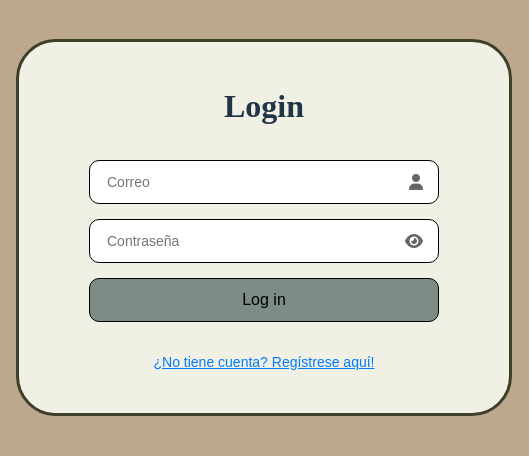
Login › muestra mensaje de error cuando las credenciales son inválidas
Type "wrong@correo.com" into the field with placeholder "Correo". click: (252, 182)
box: [105,172,399,190]
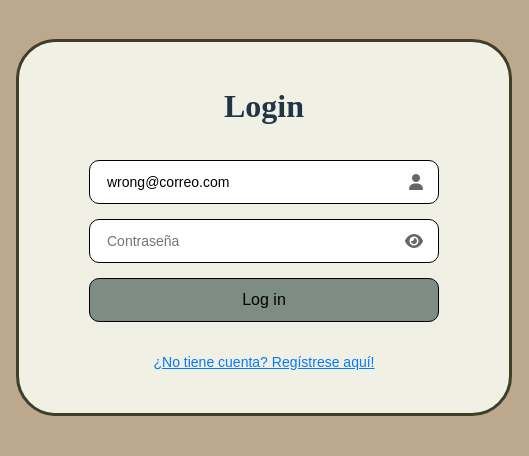
Type "wrongpass" into the password field with placeholder "Contraseña". click: (250, 240)
box: [105,232,395,250]
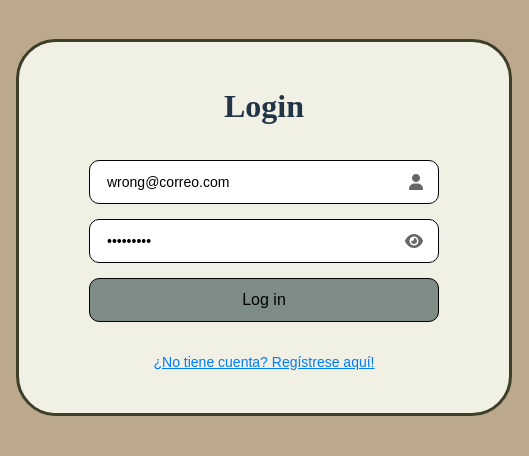
Click the button "Log in". click: (264, 300)
box: [89,278,439,322]
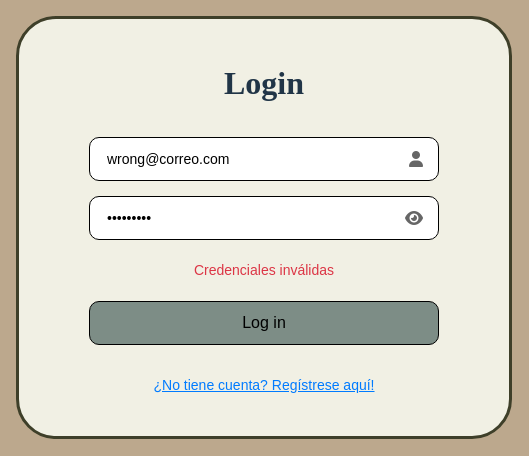
Expected: the text "Credenciales inválidas" is shown, [194,260,334,280]
